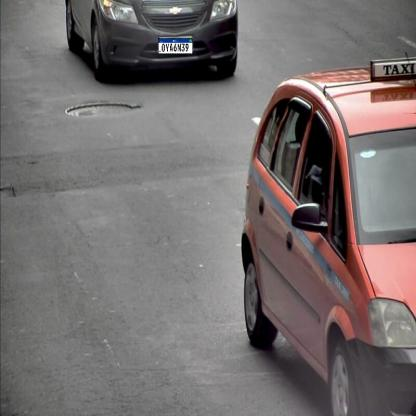PlacaM: (158, 38, 193, 54)
